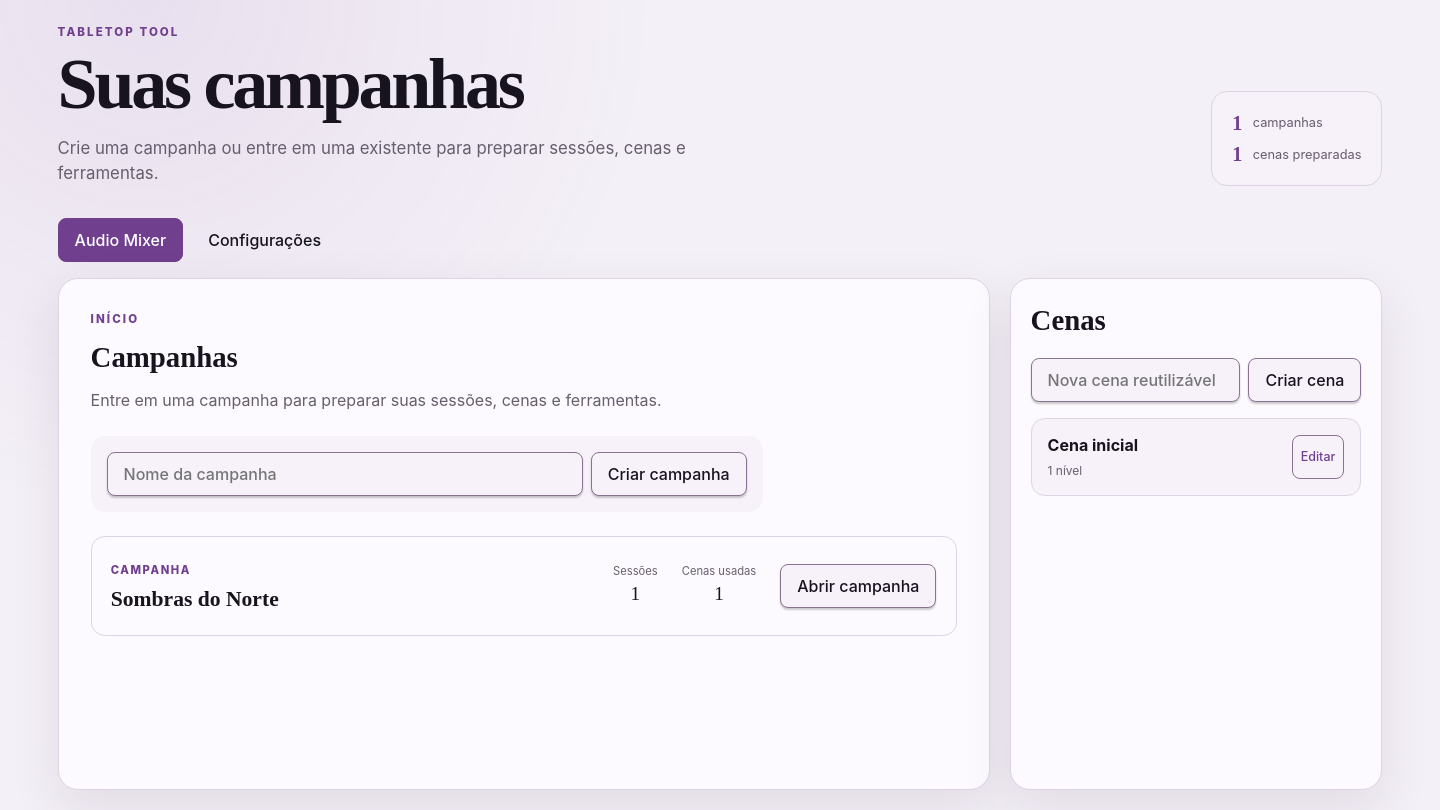
Core workspace › deletes a campaign while preserving its reusable scenes
Click the button with aria-label "Abrir campanha Sombras do Norte": (858, 586) [780, 564, 936, 608]
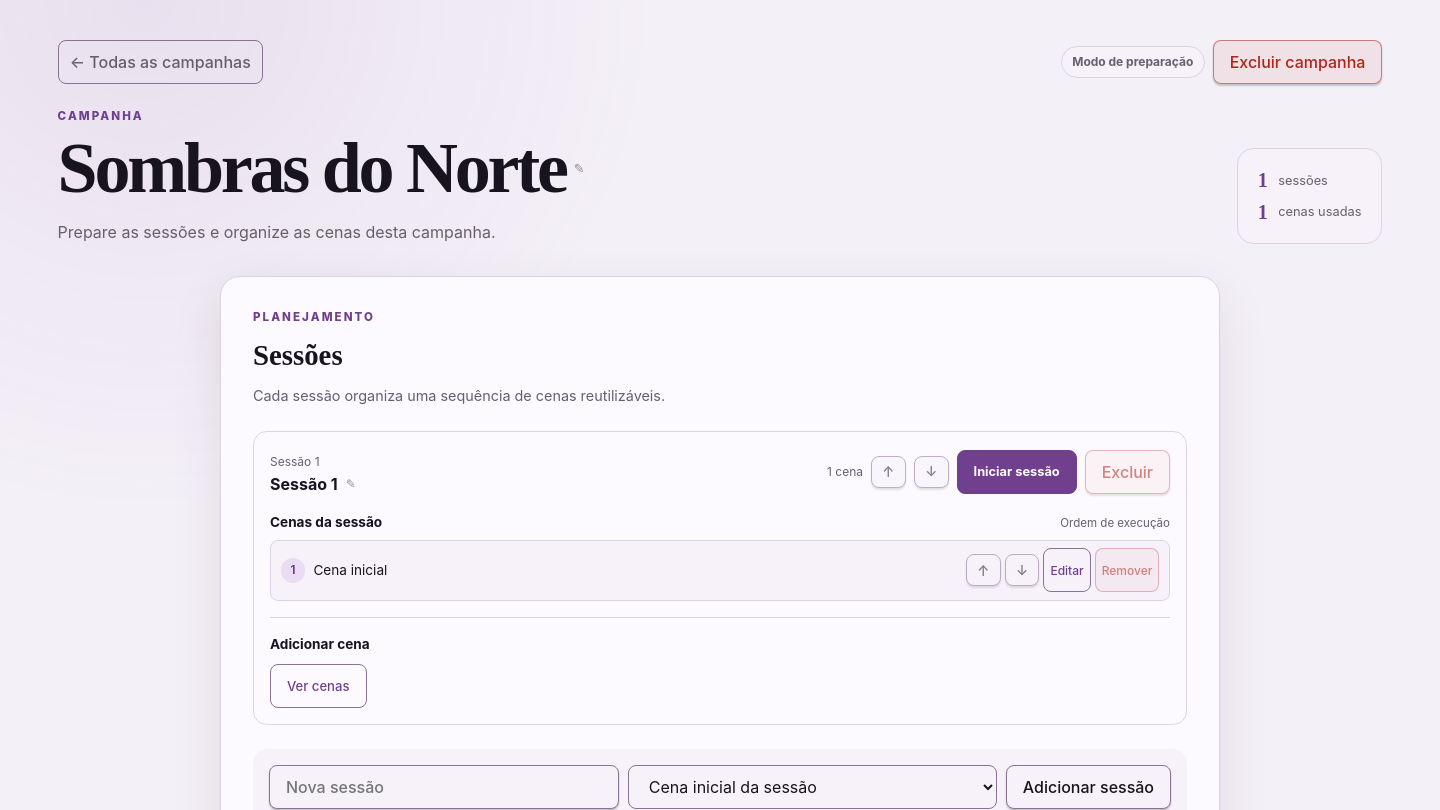
Click the button with aria-label "Excluir campanha Sombras do Norte": (1298, 62) [1213, 40, 1382, 84]
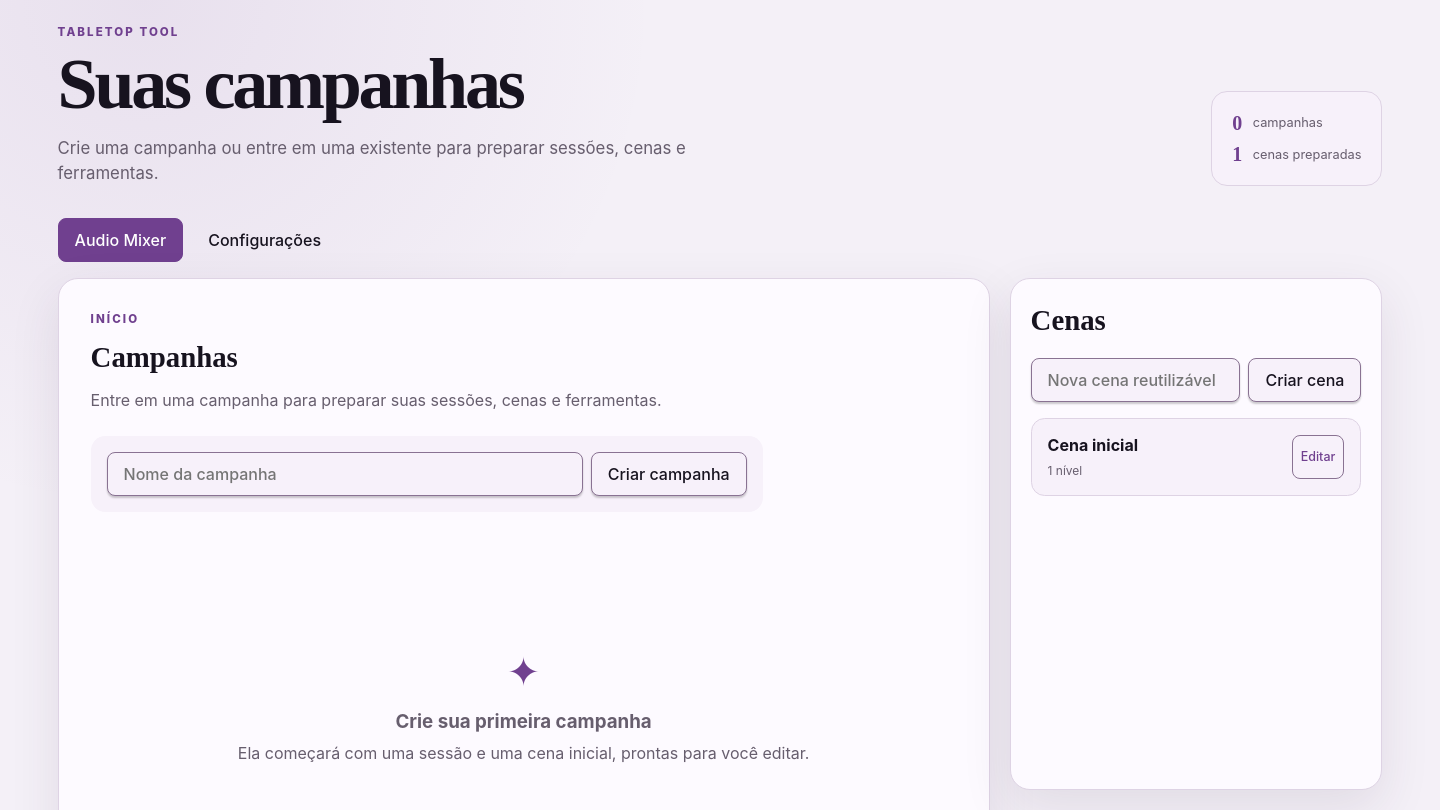
Check: the button with aria-label "Editar cena Cena inicial" is shown, box [1292, 435, 1344, 479]
Check: the heading "Crie sua primeira campanha" is shown, box [396, 710, 652, 733]
